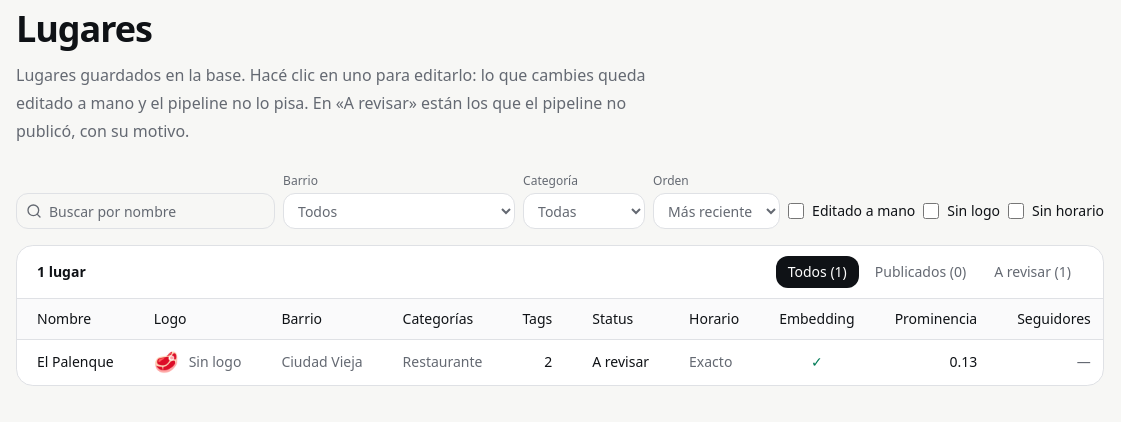
Test: SavedPlacesPage › si no se pudo publicar, vuelve a A revisar con el error
Click the button "A revisar (1)": (1033, 272) [982,256,1083,288]
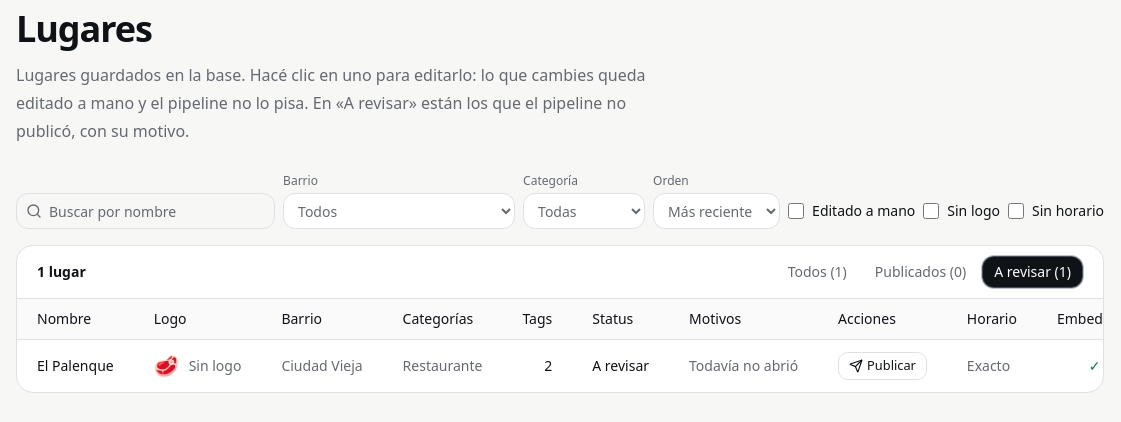
Click the button with aria-label "Publicar El Palenque": (882, 366) [838,352,927,380]
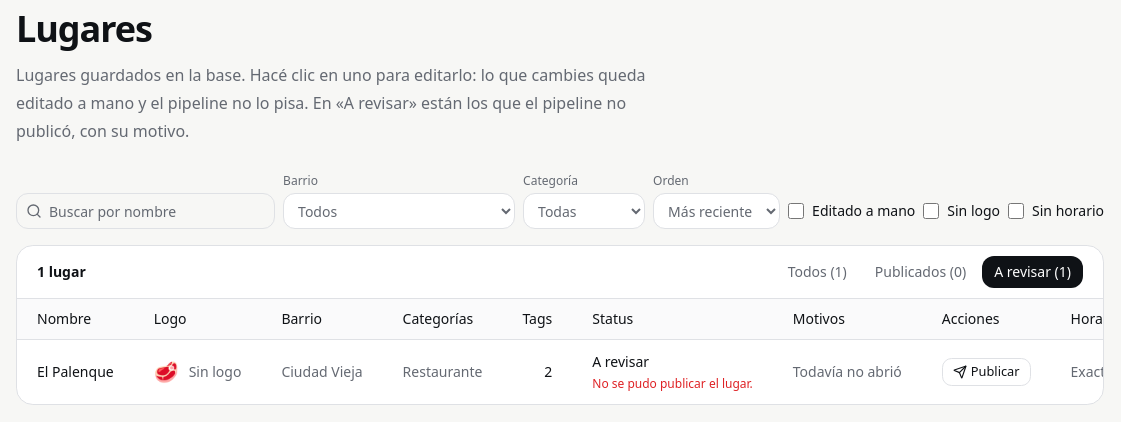
expect the button "A revisar (1)" is shown: met, box [982,256,1083,288]
expect the button with aria-label "Publicar El Palenque" is enabled: met, box [942,358,1030,386]
expect the message "No se pudo publicar el lugar." is shown: met, box [592,376,753,392]
